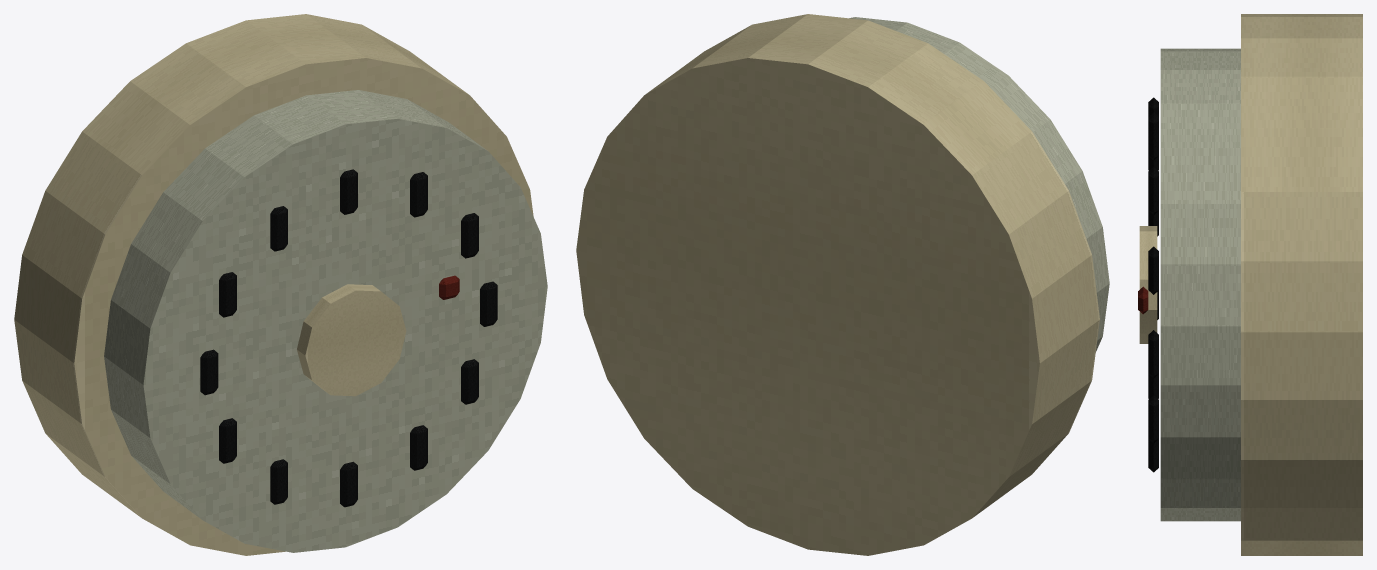
File: level_event_smoke_alarm.glb
3 views of the same model, side by side, from view 1: azimuth 30°, elevation 25°; view 2: azimuth 150°, elevation 25°; view 3: azimuth 270°, elevation 25° (orthographic).
Parts seen in each view (by area): view 1: level_event_smoke_alarm; view 2: level_event_smoke_alarm; view 3: level_event_smoke_alarm.
Boxes of the visible parts, x1,y1,x2,y2 form: level_event_smoke_alarm: (14,14,547,555); level_event_smoke_alarm: (576,14,1109,555); level_event_smoke_alarm: (1138,14,1362,555).
Size of the model in its own units: 0.156 by 0.156 by 0.0645.
4 materials, 4 textured.
